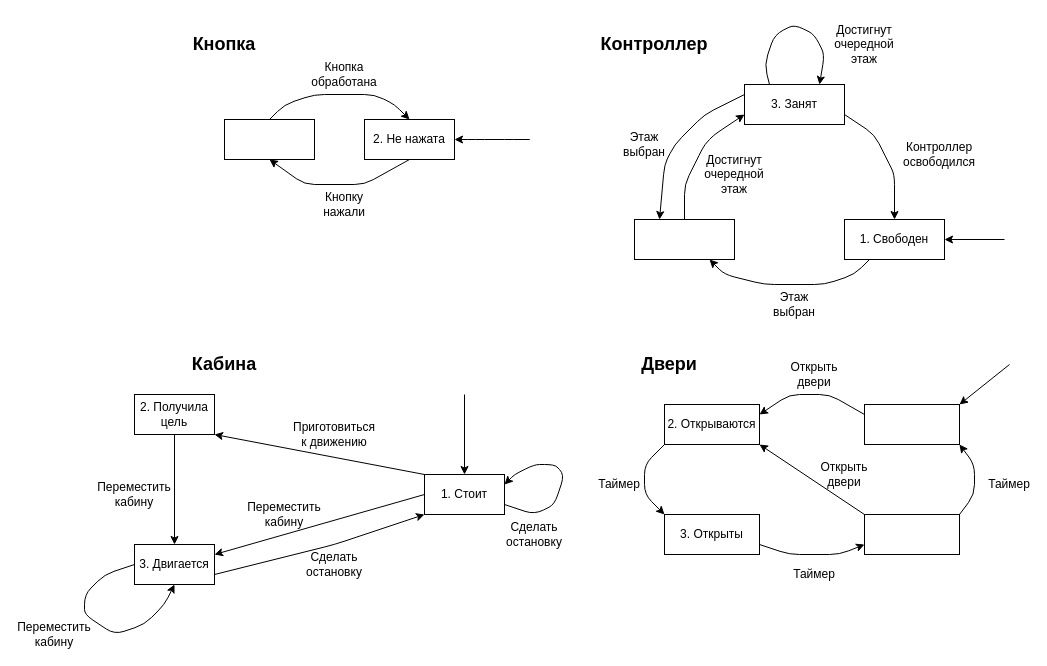
Some shapes in this 1047 by 666 pixel diagram are drawn without their labels. Each missing label, with the centre of its shape:
1. Закрыты: [912,424]
1. Нажата: [269,139]
2. Получил цель: [684,239]
4. Закрываются: [912,534]
